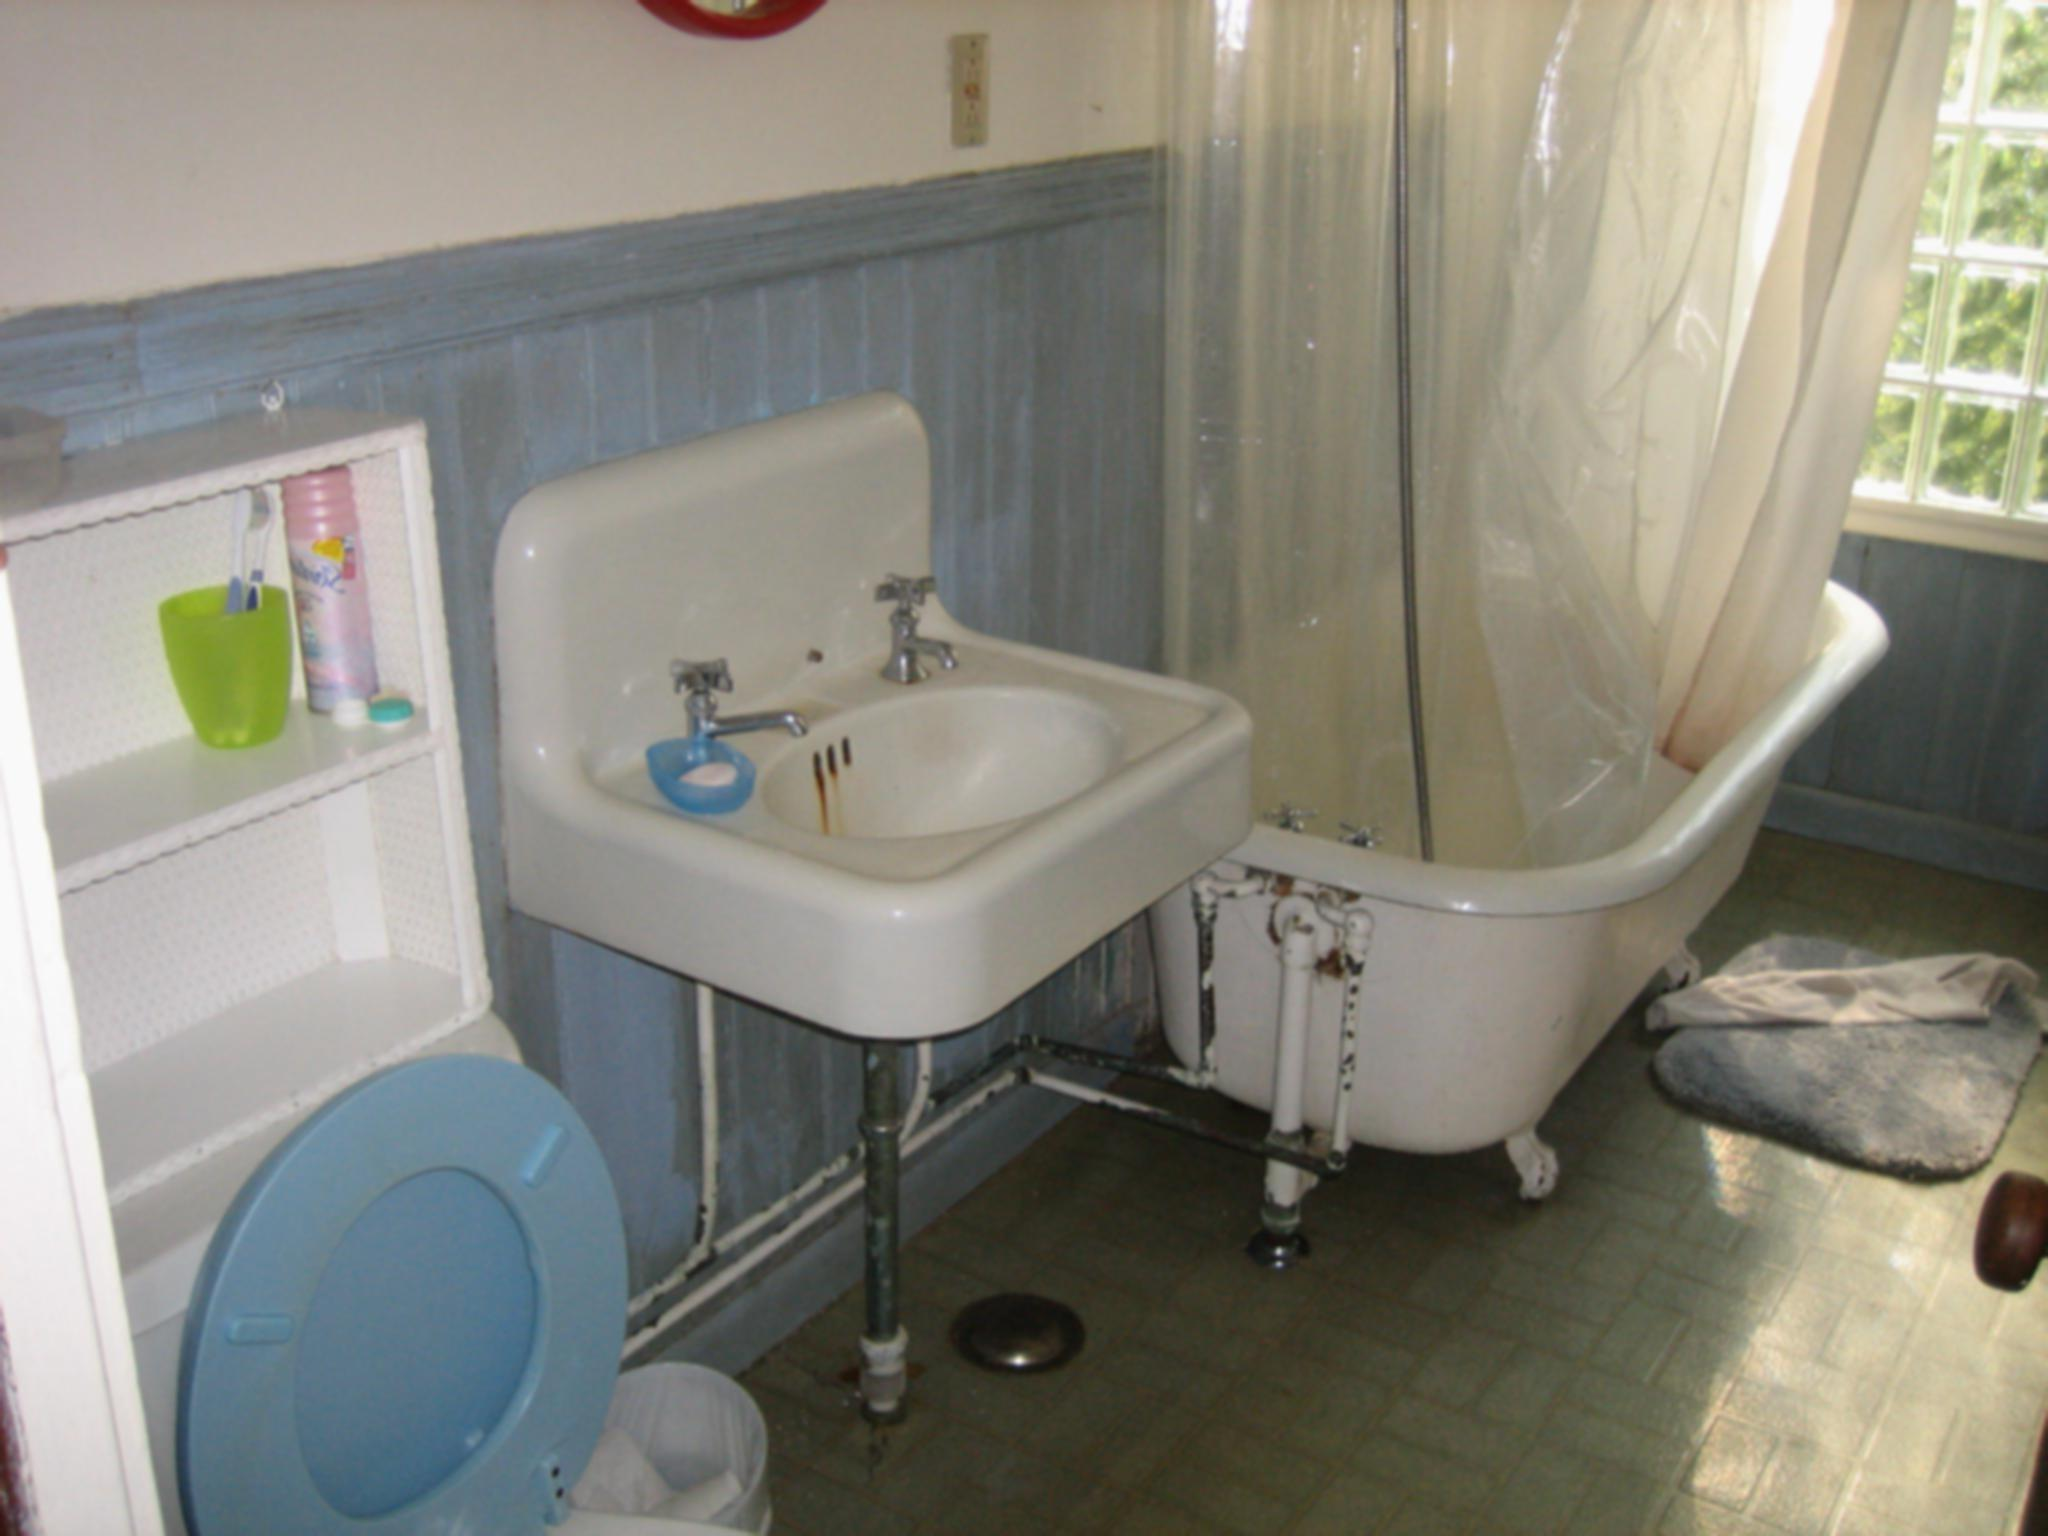Bote de Basura: (569, 1360, 776, 1517)
Lavamanos: (468, 436, 1276, 1050)
